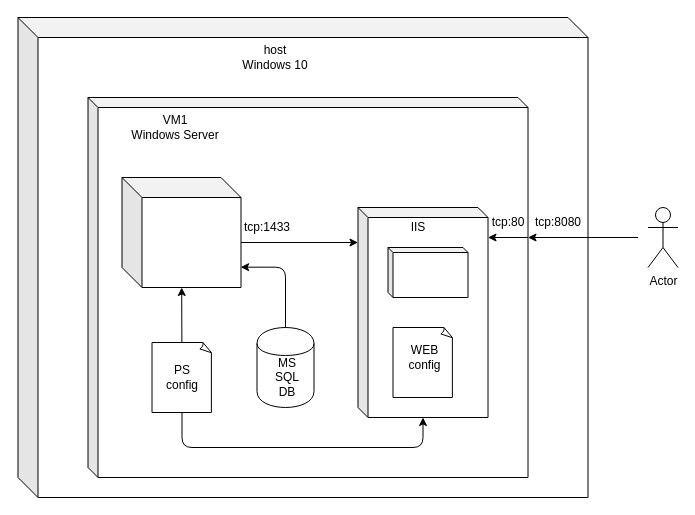
The diagram is 695 pixels wide and 515 high, and some of its shapes have lost their labels. Here are the shapes that lost their labels. From the top down, the centre of each, then its label:
the point at 181,232: SQL Server
the point at 427,272: WEB AP
